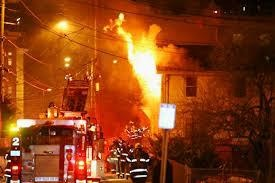fire: (109, 12, 161, 103)
